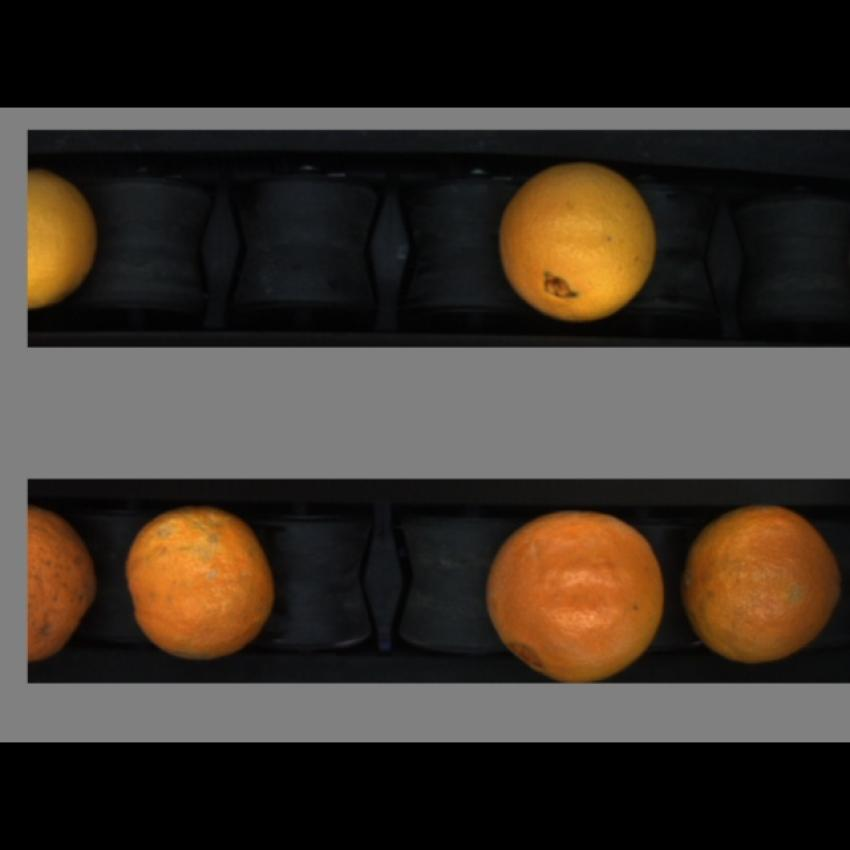Buen estado: (488, 154, 668, 324), (29, 163, 111, 320)
Mal estado: (484, 506, 670, 678), (680, 500, 844, 668), (117, 501, 281, 663), (30, 501, 99, 670)
